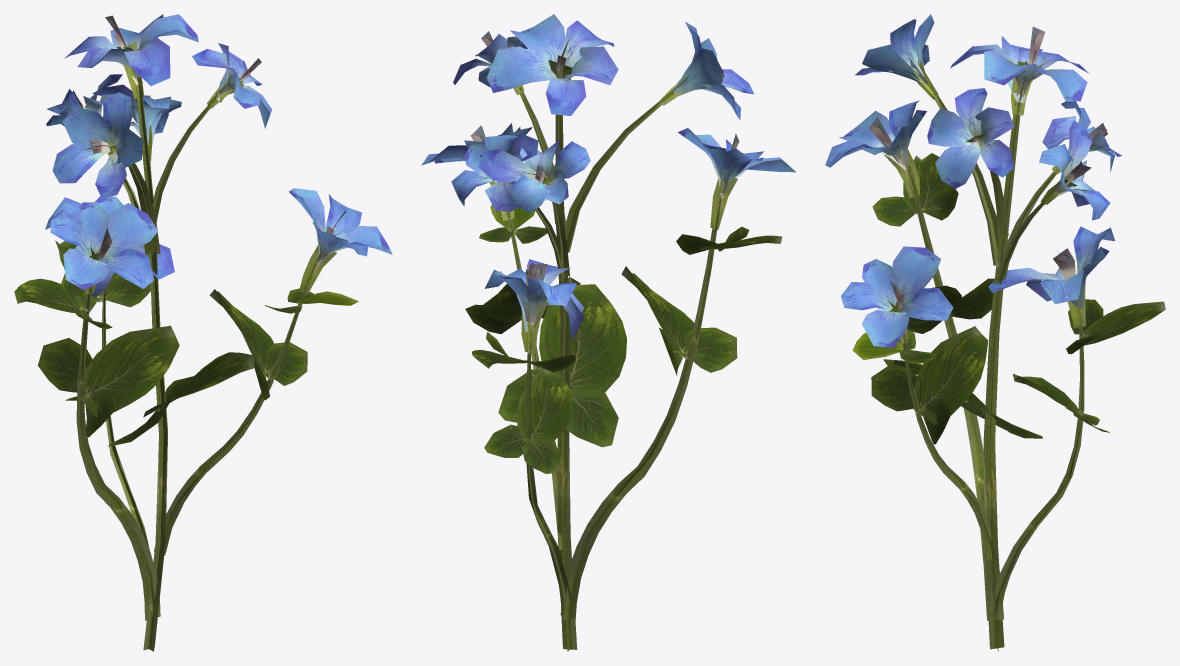
The picture shows the model from 3 angles, left to right: view 1: azimuth 30°, elevation 25°; view 2: azimuth 150°, elevation 25°; view 3: azimuth 270°, elevation 25°; orthographic projection. The views are drawn at different scales.
Parts seen in each view (by area): view 1: LV_Telaon_Object_Flower01_SM_HSH; view 2: LV_Telaon_Object_Flower01_SM_HSH; view 3: LV_Telaon_Object_Flower01_SM_HSH.
Part boxes in pixels (<box>): LV_Telaon_Object_Flower01_SM_HSH: <box>14,14,392,651</box>; LV_Telaon_Object_Flower01_SM_HSH: <box>421,14,796,651</box>; LV_Telaon_Object_Flower01_SM_HSH: <box>825,14,1165,651</box>.
Bounding box in the file's own units: 0.3915 × 0.6563 × 0.3303.
Materials: 1 (1 with a texture image).
